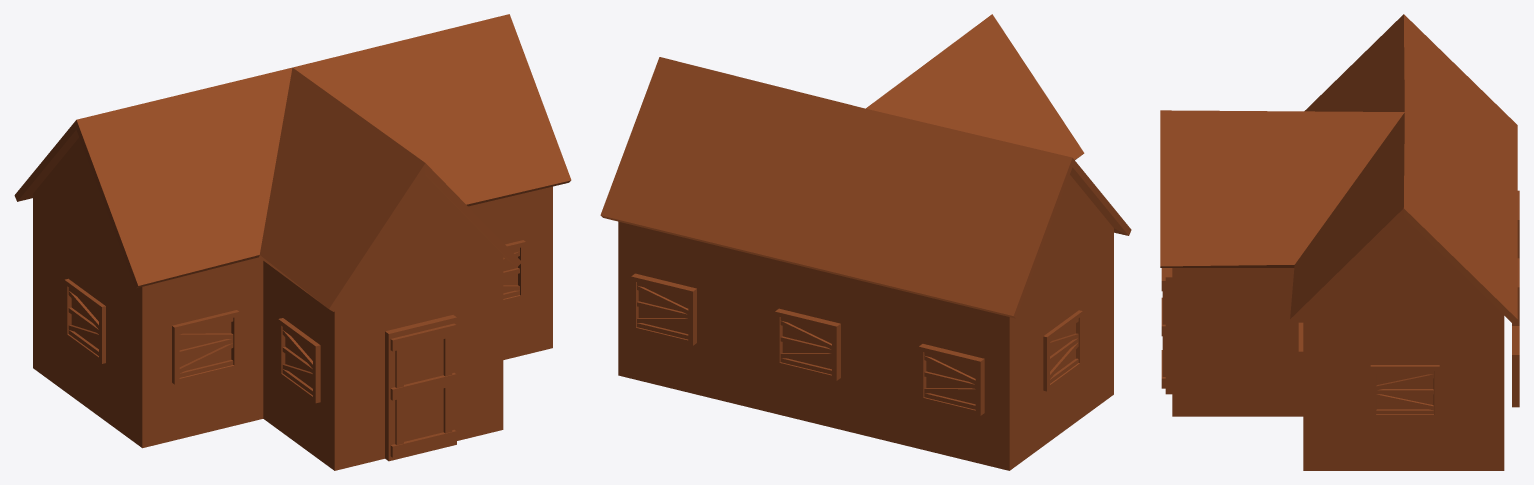
Rendered from House_Normal.fbx.
The picture shows the model from 3 angles, left to right: view 1: azimuth 30°, elevation 25°; view 2: azimuth 150°, elevation 25°; view 3: azimuth 270°, elevation 25°; orthographic projection. The views are drawn at different scales.
Visible parts, largest first — view 1: House_Normal; view 2: House_Normal; view 3: House_Normal.
Part boxes in pixels (x1,y1,x2,y2): House_Normal: [14, 14, 571, 470]; House_Normal: [600, 14, 1131, 470]; House_Normal: [1160, 14, 1519, 470].
Bounding box in the file's own units: 67.68 × 43.6 × 52.93.
